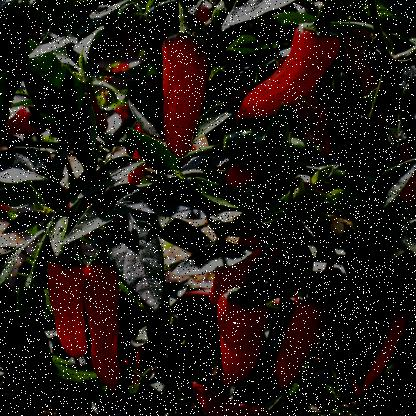chili: (230, 21, 339, 123), (156, 31, 212, 159), (84, 262, 136, 395), (270, 290, 330, 385), (42, 252, 92, 356), (218, 285, 260, 394)
